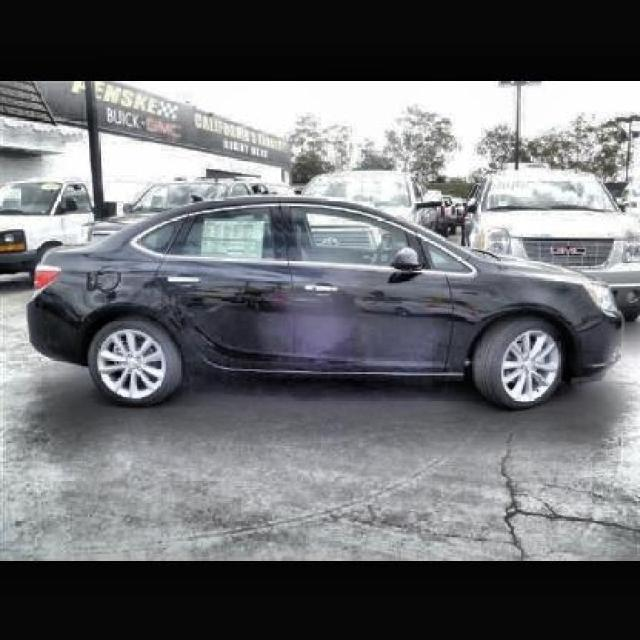black: (26, 193, 639, 390)
